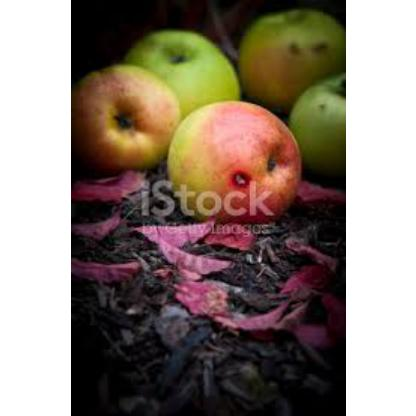apple: (166, 106, 300, 216), (78, 70, 176, 166), (242, 16, 336, 96)
